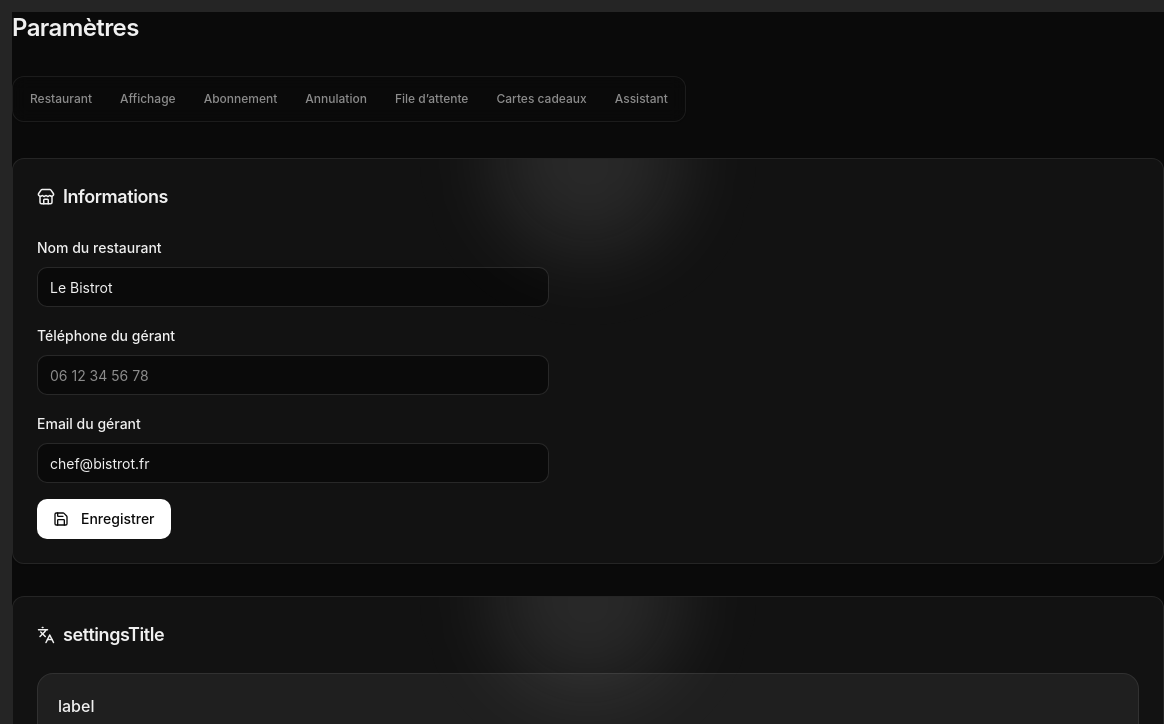
Test: SettingsPage › retire « Enregistré » dès que le champ est modifié
This screenshot has width=1164, height=724.
Replace the text in the field showing "Le Bistrot" with "Le Bistrot 2" at (293, 287), box [37,267,549,307]
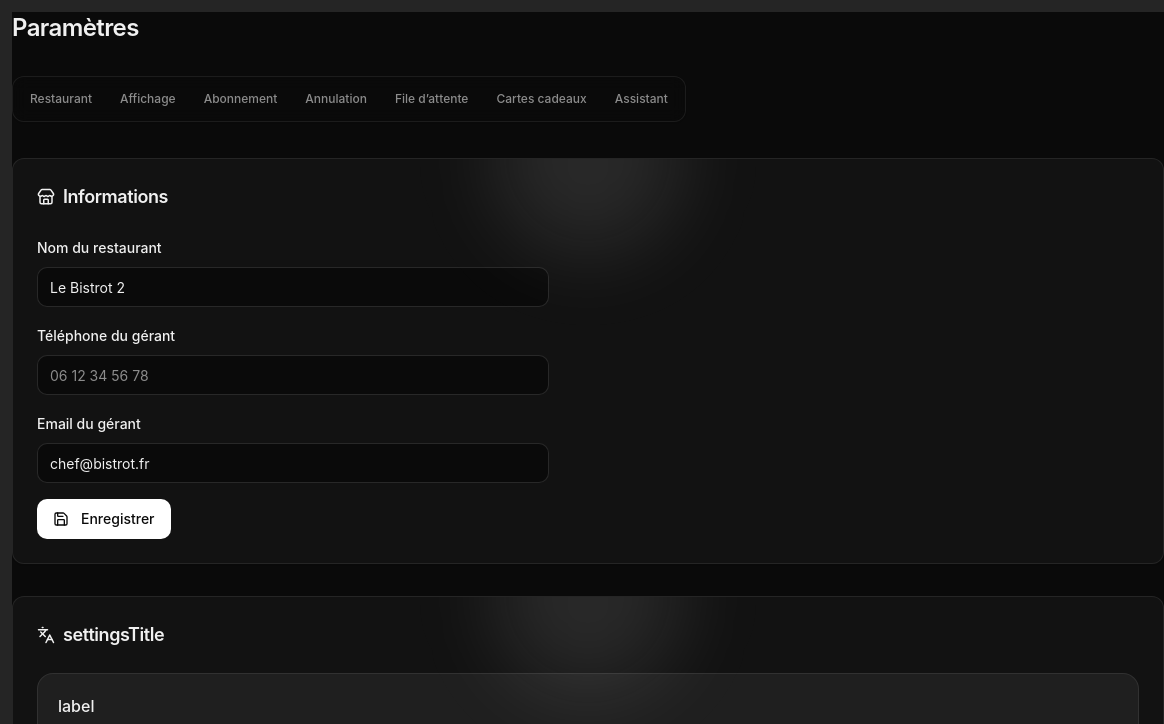
Click the button "Enregistrer" at (104, 519), box [37,499,170,539]
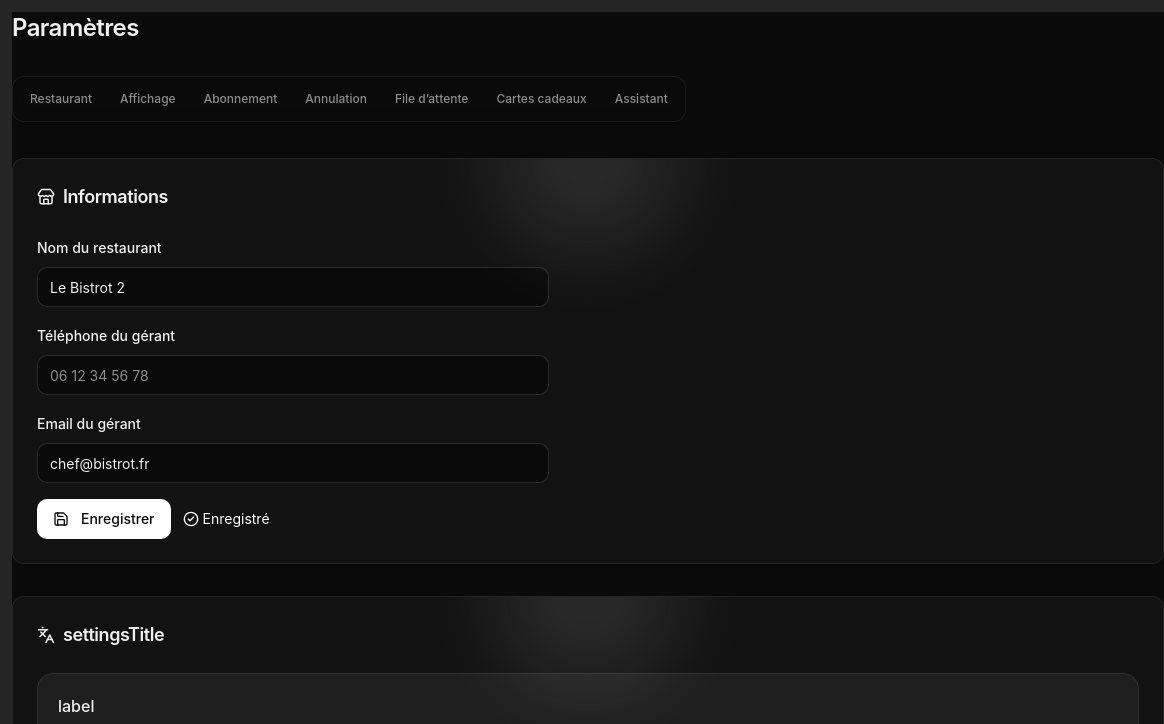
Expected: the text "Enregistré" is shown, [182,509,270,529]
Replace the text in the field showing "Le Bistrot 2" with "Le Bistrot 3" at (293, 287), box [37,267,549,307]
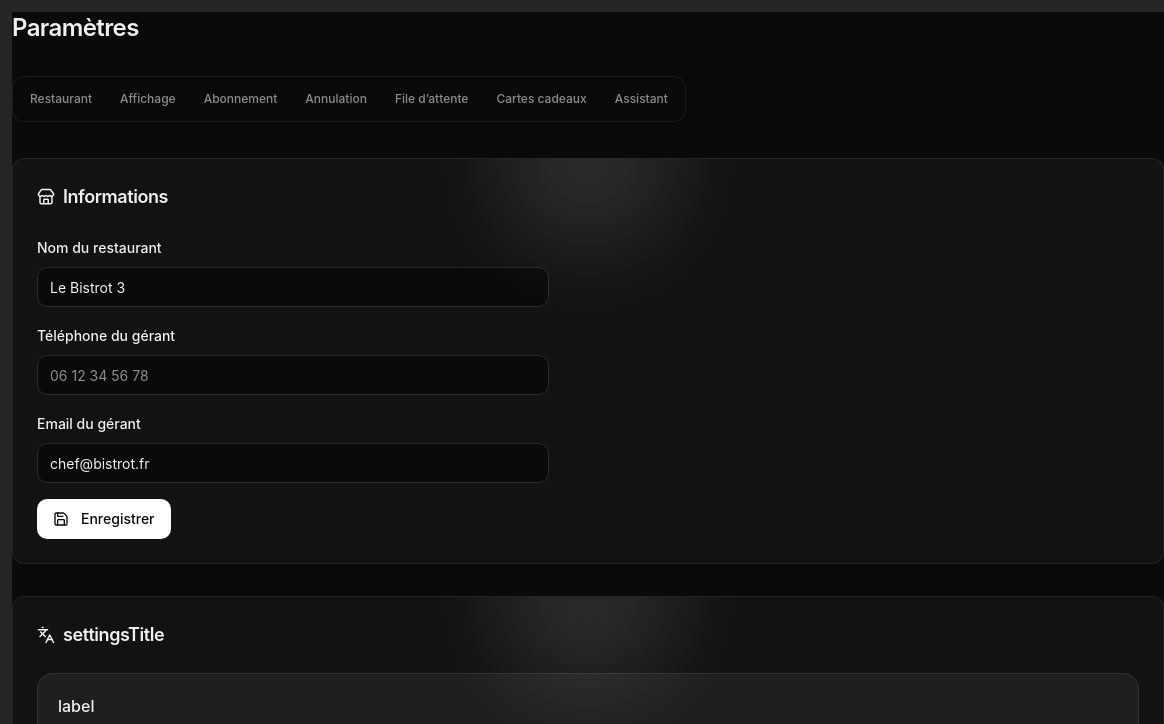
Expected: the text "Enregistré" is gone
